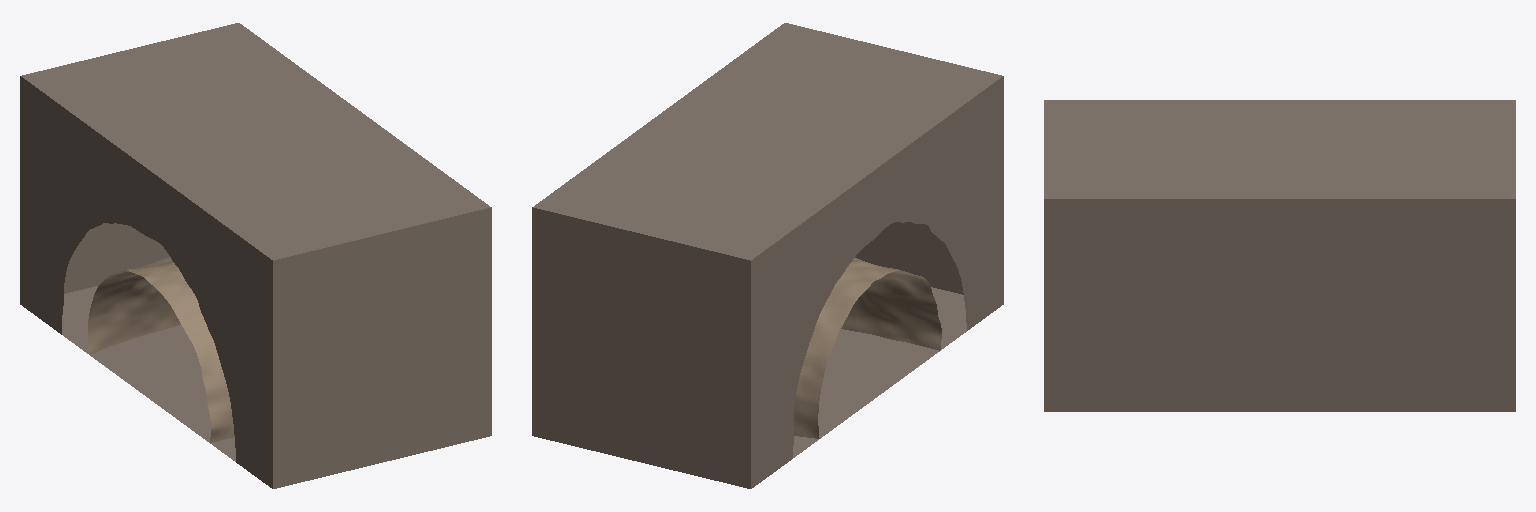
robot.urdf — tunnel_environment:
<?xml version="1.0"?>
<robot name="tunnel_environment">
  <material name="rock_wall">
    <color rgba="0.63 0.56 0.48 1.0"/>
  </material>
  <material name="tunnel_shell">
    <color rgba="0.55 0.50 0.46 1.0"/>
  </material>
  <link name="tunnel_environment">
    <inertial>
      <origin xyz="0 0 0" rpy="0 0 0"/>
      <mass value="0.0"/>
      <inertia ixx="0.001" ixy="0" ixz="0" iyy="0.001" iyz="0" izz="0.001"/>
    </inertial>
    <visual>
      <origin xyz="0 0 0" rpy="0 0 0"/>
      <geometry>
        <mesh filename="meshes/tunnel_shell.obj"/>
      </geometry>
      <material name="tunnel_shell"/>
    </visual>
    <visual>
      <origin xyz="0 0 0" rpy="0 0 0"/>
      <geometry>
        <mesh filename="meshes/tunnel_wall.obj"/>
      </geometry>
      <material name="rock_wall"/>
    </visual>
  </link>
</robot>

--- Facts derived from the render (not from the file) ---
3 views of the same robot in one strip: view 1: azimuth 30°, elevation 25°; view 2: azimuth 150°, elevation 25°; view 3: azimuth 270°, elevation 25° (orthographic).
Model tunnel_environment with 1 links and 0 joints (none), rooted at tunnel_environment, posed every joint at zero.
Visible links, largest first — view 1: tunnel_environment; view 2: tunnel_environment; view 3: tunnel_environment.
Link boxes in pixels (x1,y1,x2,y2): tunnel_environment: (20, 23, 491, 488); tunnel_environment: (532, 23, 1003, 488); tunnel_environment: (1044, 100, 1515, 411).
Size in the robot's own frame: 5 by 10 by 5 metres.
Meshes: 2 distinct files referenced, 2 mesh visuals loaded (2 OBJ).
